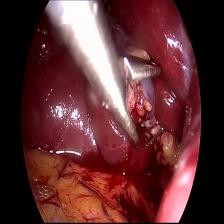Grasper: (112, 53, 164, 150)
